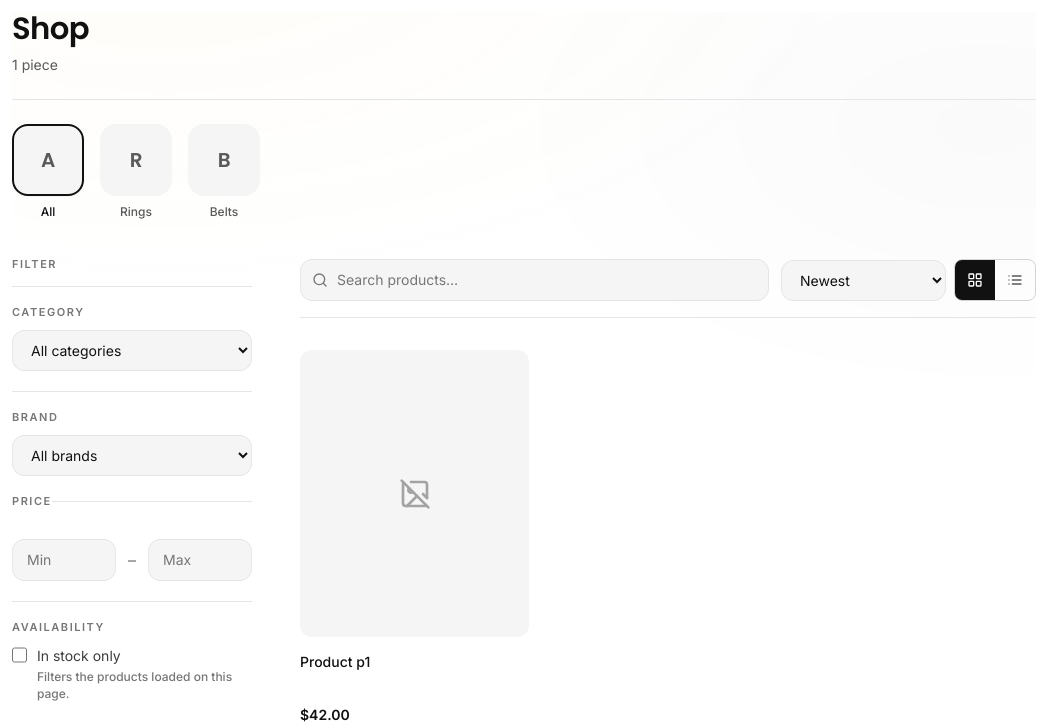
it: Products (PLP) › applying the brand filter updates the URL and re-queries the API (WP-3.5)
Expected: the link "Product p1" is shown, top-left (300, 653), bottom-right (370, 670)
Select "Royal Textiles" in the dropdown named "All brands" at (132, 456), box top-left (12, 436), bottom-right (252, 476)
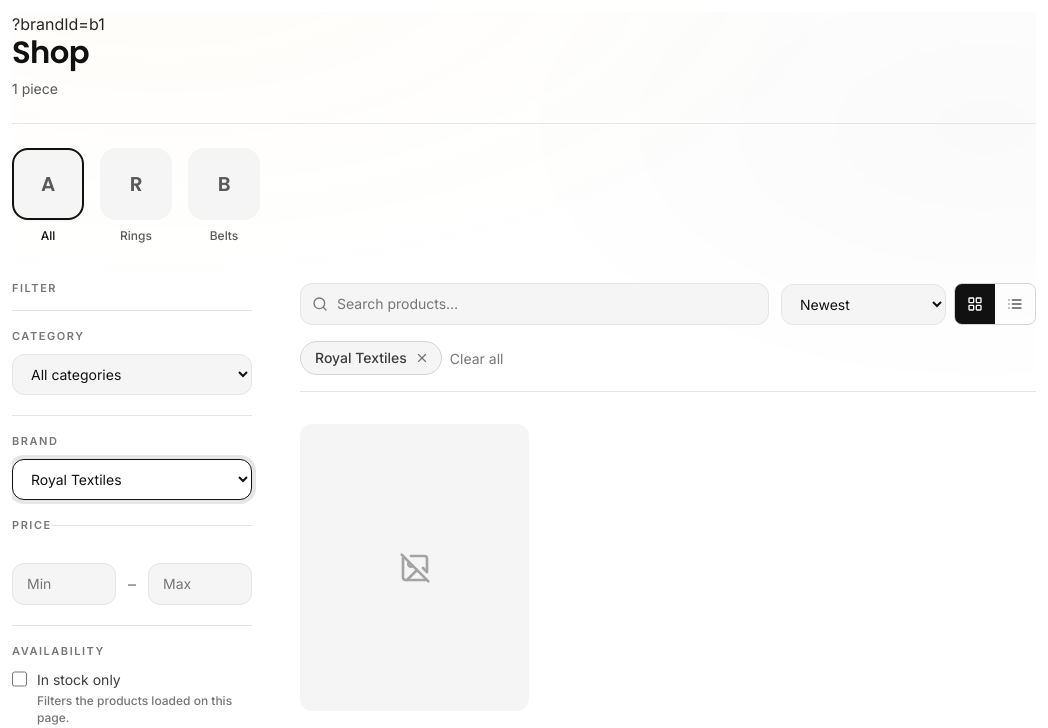
Now the text with test id "loc-search" shows "brandId=b1", box top-left (12, 14), bottom-right (105, 34)
